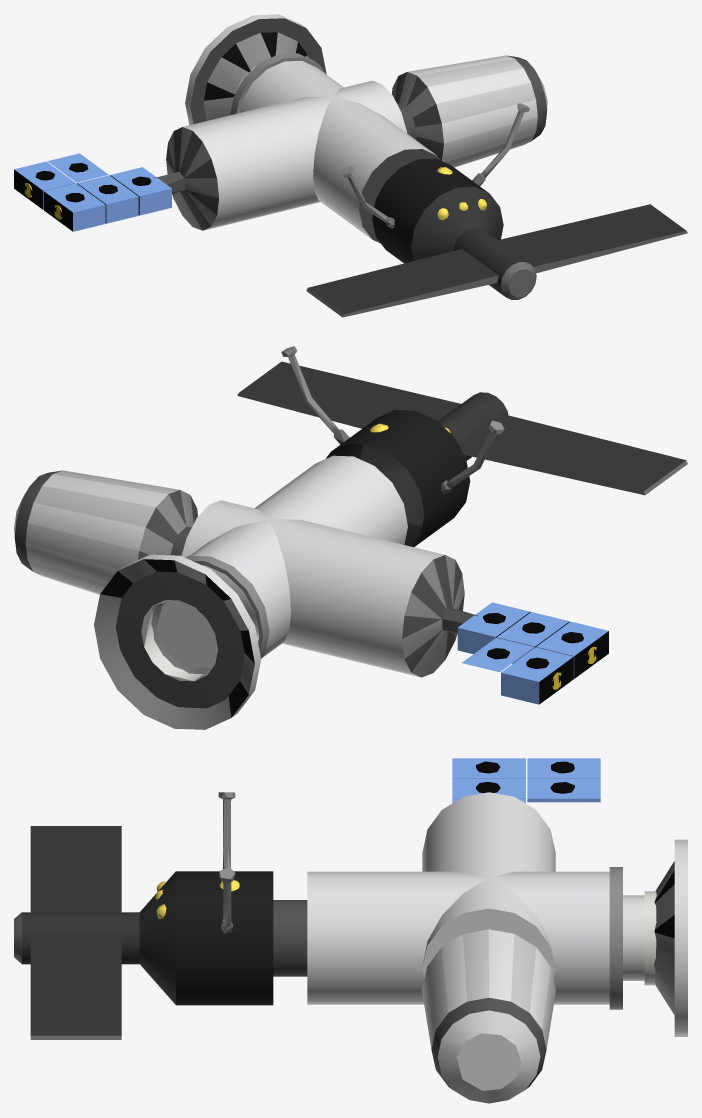
Rendered from Satelite.glb.
3 views of the same model, one above another, from view 1: azimuth 30°, elevation 25°; view 2: azimuth 150°, elevation 25°; view 3: azimuth 270°, elevation 25° (orthographic). The views are drawn at different scales.
Visible parts, largest first — view 1: Satelite; view 2: Satelite; view 3: Satelite.
Boxes of the visible parts, x1,y1,x2,y2 form: Satelite: (14,14,687,317); Satelite: (14,346,687,729); Satelite: (14,758,687,1103).
Size of the model in its own units: 10.38 by 3.49 by 10.12.
Materials: 1 (1 with a texture image).
